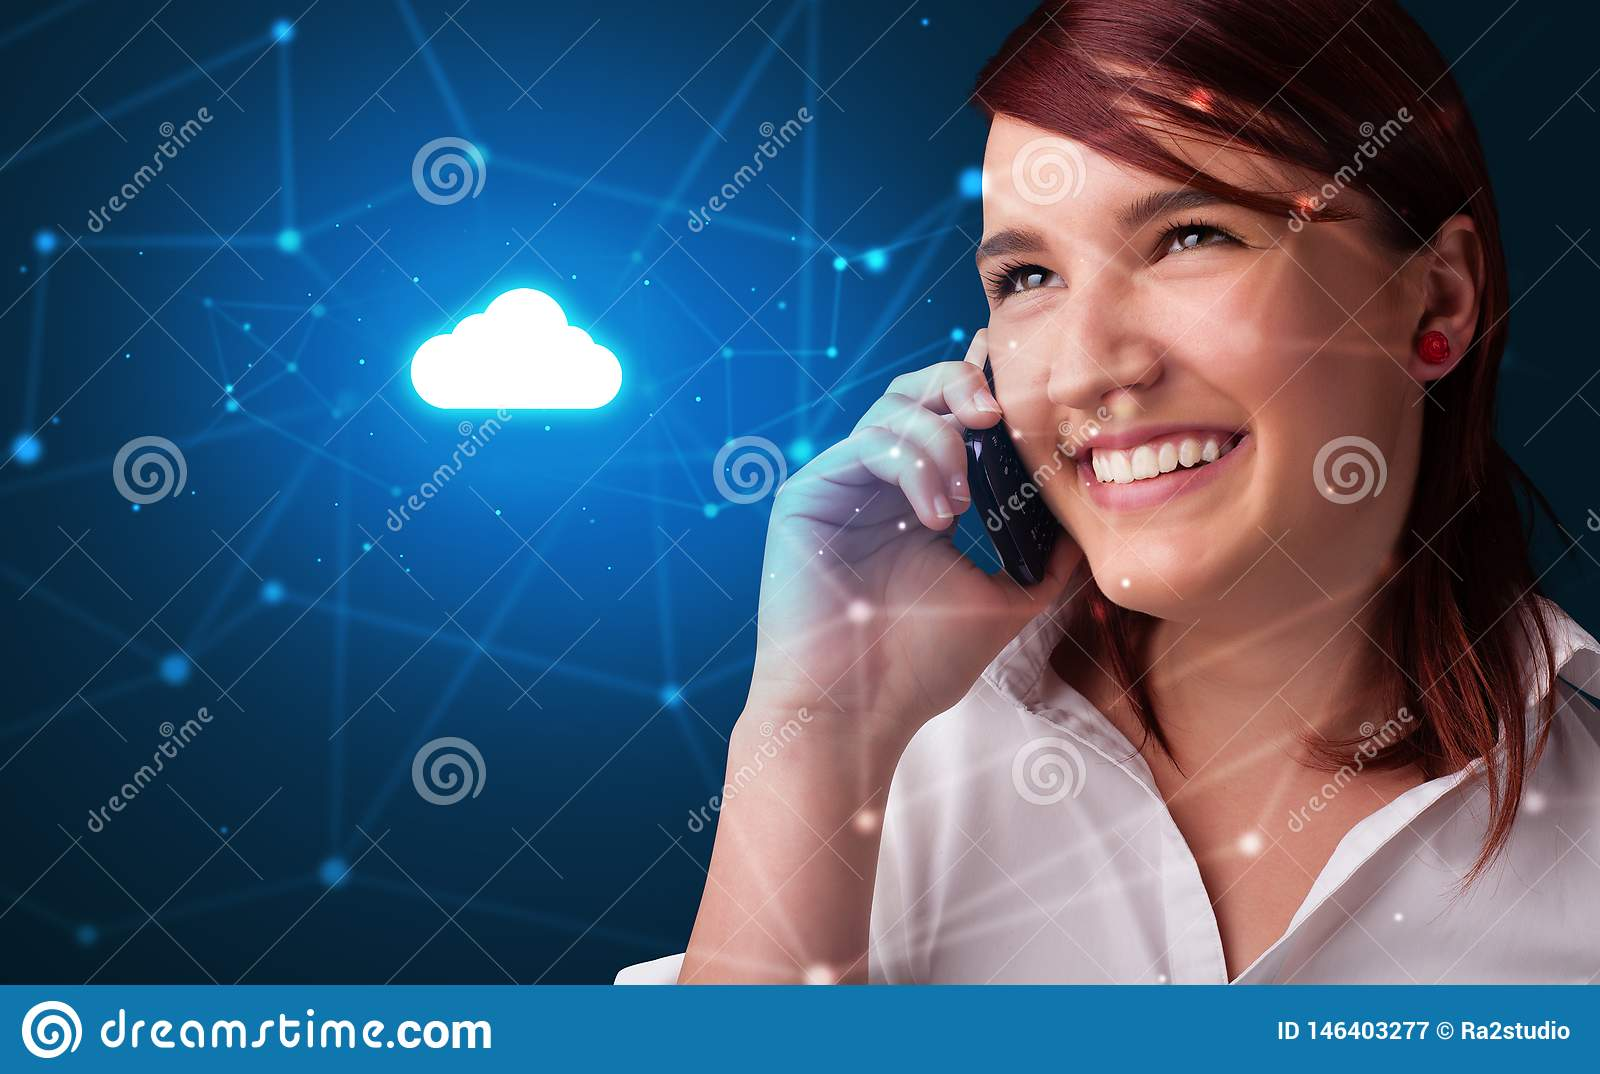talk: (739, 173, 1344, 802)
